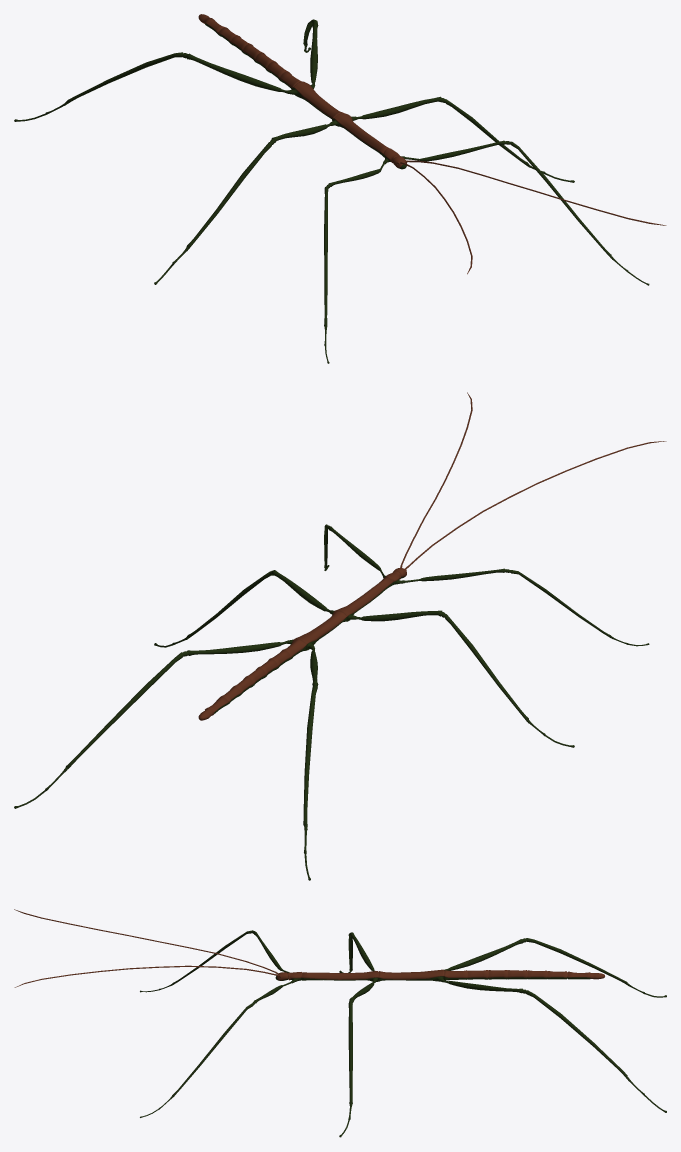
The model's file is stick_insect_stick_insect.obj.
The picture shows the model from 3 angles, top to bottom: view 1: azimuth 30°, elevation 25°; view 2: azimuth 150°, elevation 25°; view 3: azimuth 270°, elevation 25°; orthographic projection. The views are drawn at different scales.
Size of the model in its own units: 0.2331 by 0.0705 by 0.3891.
